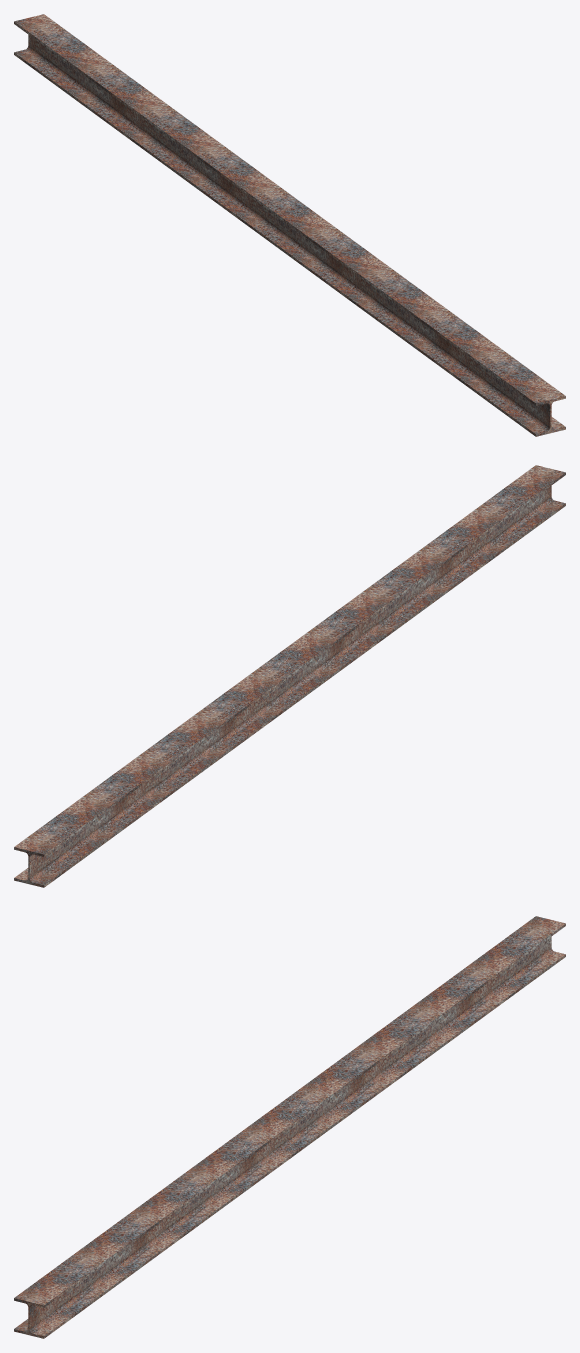
Rendered from Poutre.dae.
The picture shows the model from 3 angles, top to bottom: view 1: azimuth 30°, elevation 25°; view 2: azimuth 150°, elevation 25°; view 3: azimuth 330°, elevation 25°; orthographic projection.
Parts seen in each view (by area): view 1: group_0; view 2: group_0; view 3: group_0.
Boxes of the visible parts, <box> form: group_0: <box>14,14,565,436</box>; group_0: <box>14,465,565,887</box>; group_0: <box>14,916,565,1338</box>.
Bounding box in the file's own units: 41.45 × 1247 × 44.04.
